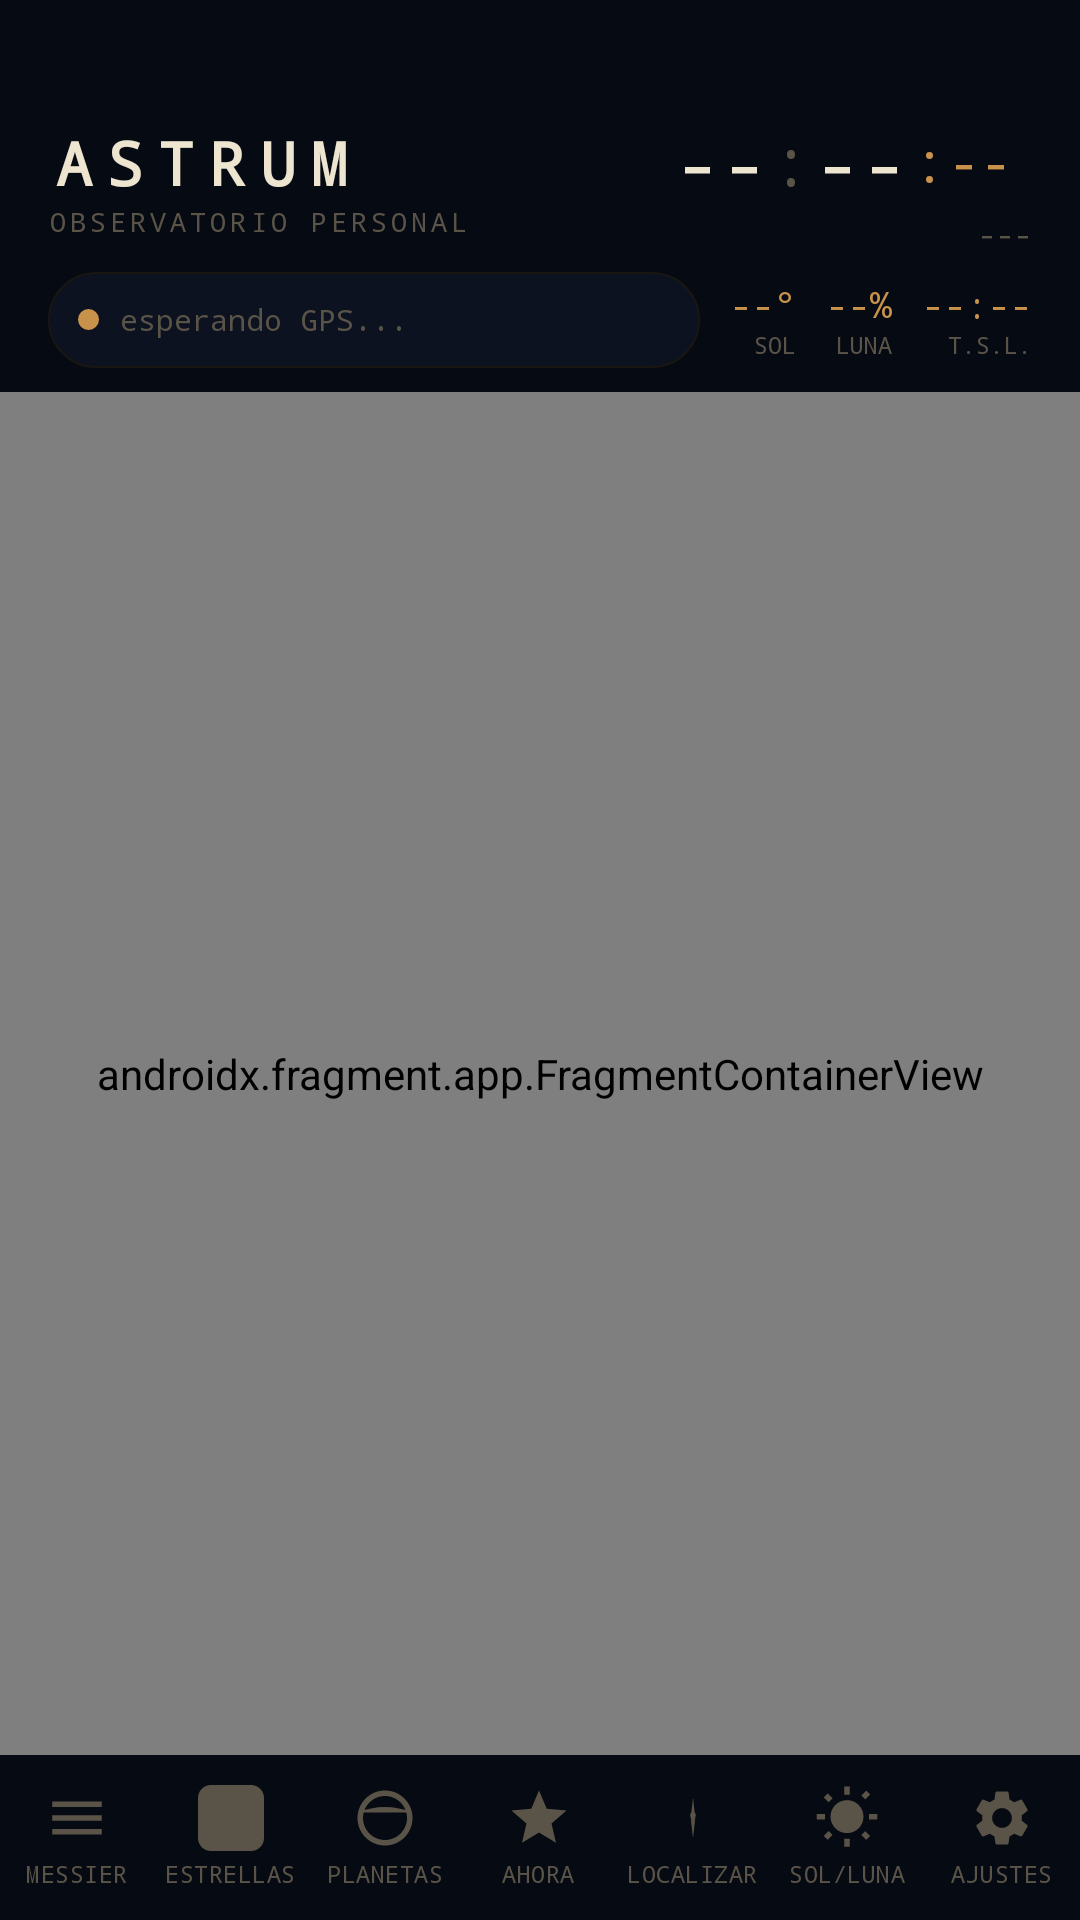

Icon bounding boxes for this 1080 × 1920 phone screenshot, format (x1, y1, x2, y2):
catalog: (52, 1801, 102, 1835)
compass needle: (690, 1801, 696, 1835)
